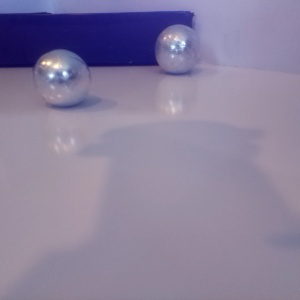zone: (1, 11, 193, 68)
